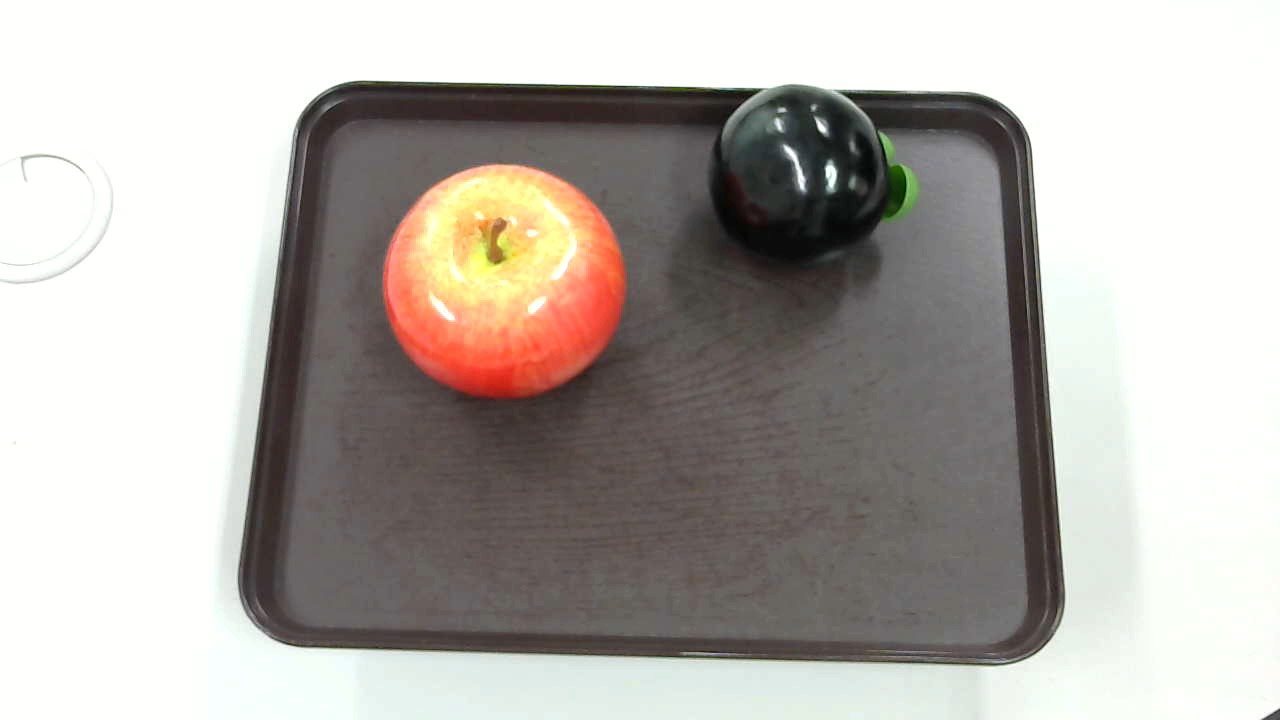mangosteen: (712, 80, 920, 271)
red apple: (383, 163, 625, 402)
